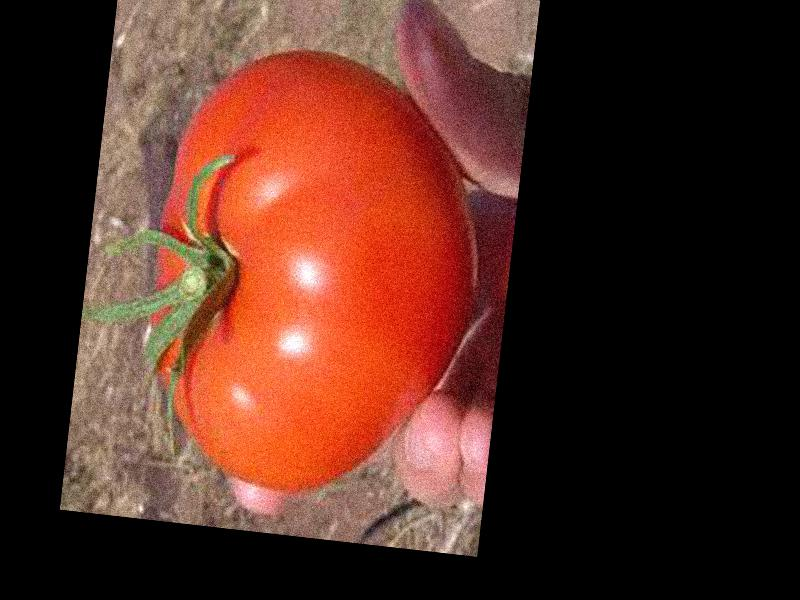Tomato: (132, 35, 496, 508)
